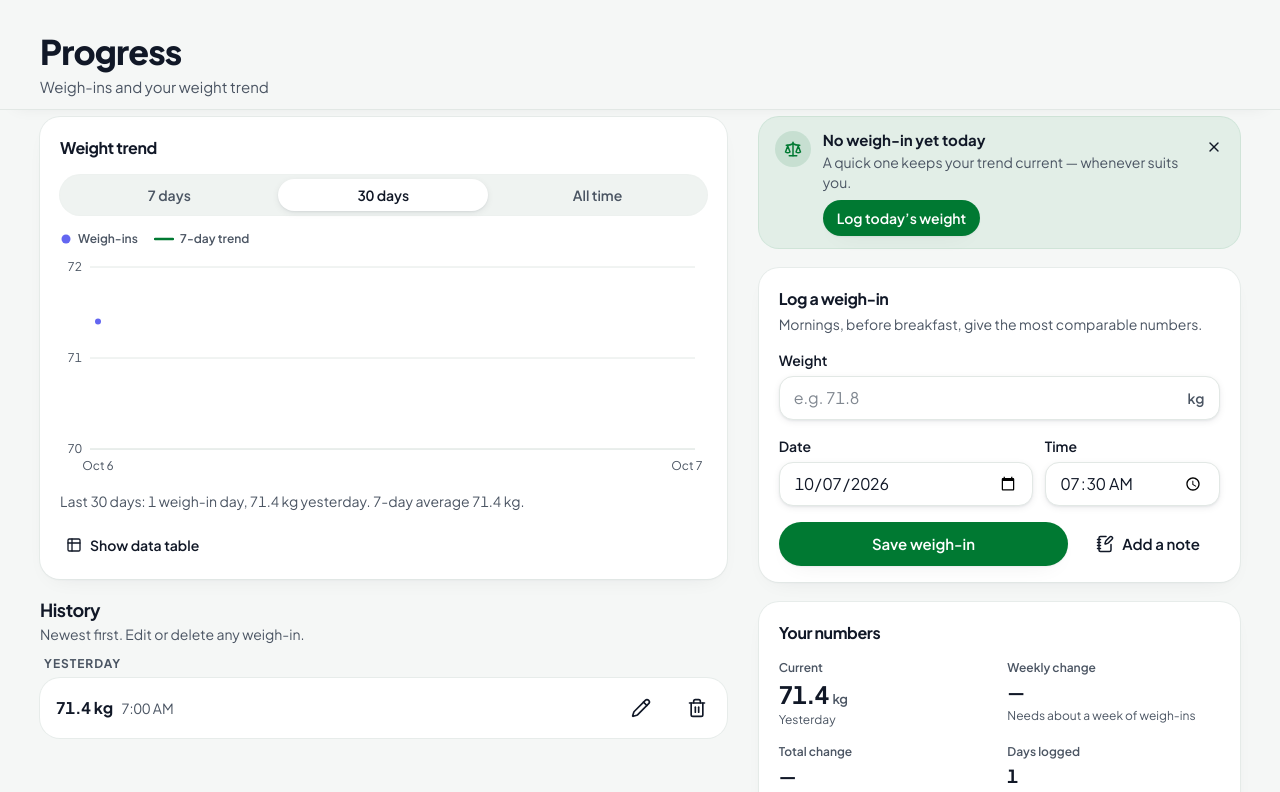
Test: Progress: weigh-in reminder › can be hidden for now
expect the heading "Log a weigh-in" is shown: met, box [779,288,888,309]
Step 1. Click the button named "Hide reminder for now" → click(1214, 147), box [1196,129,1232,165]
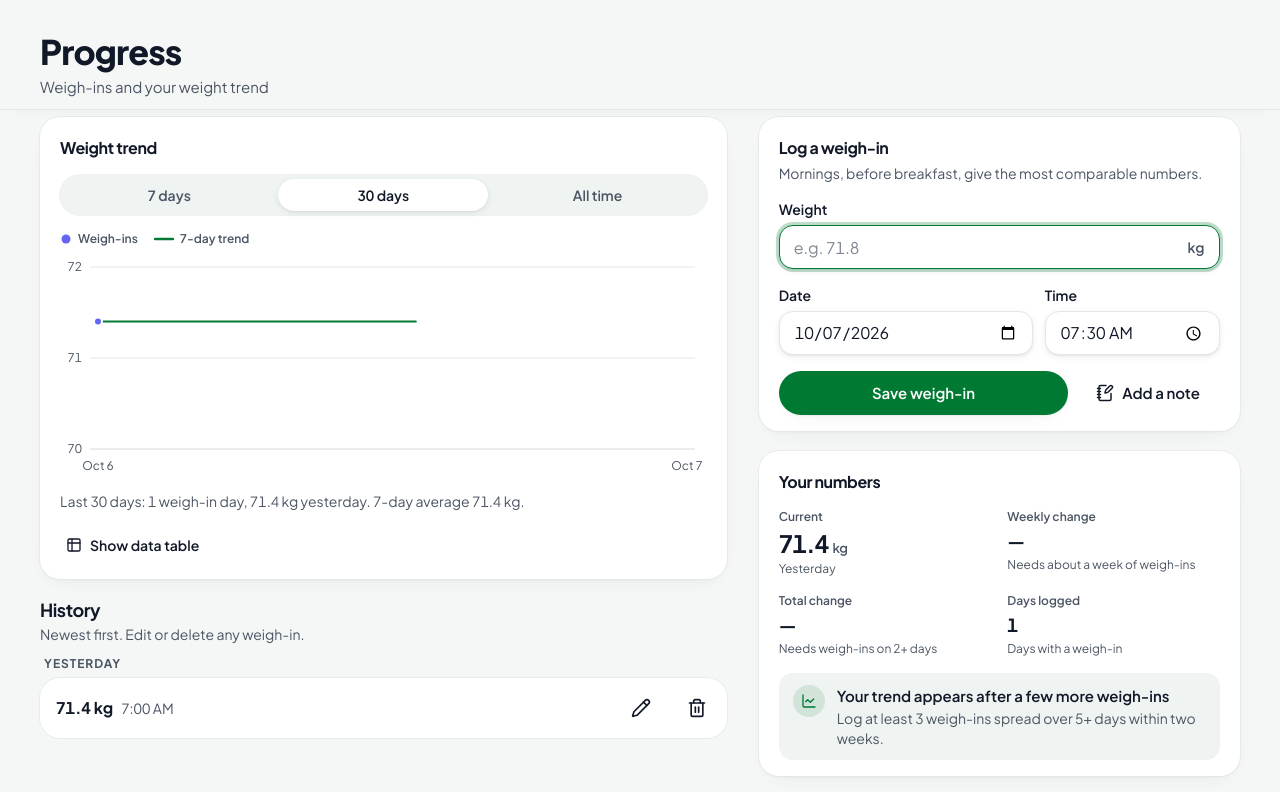
expect the heading "No weigh-in yet today" is gone: met
